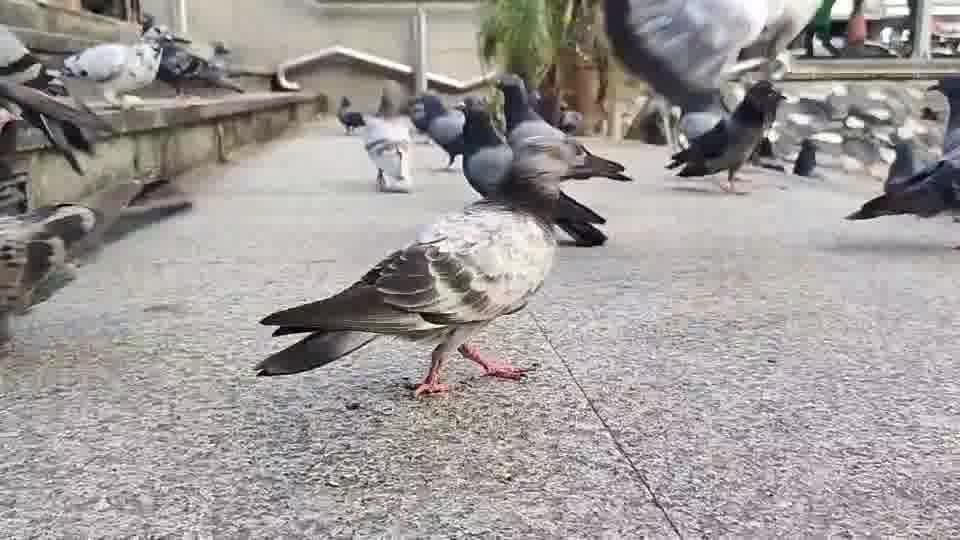Pigeon: (252, 135, 587, 399), (452, 94, 608, 246), (663, 78, 787, 193), (0, 201, 96, 344), (842, 132, 959, 223), (335, 86, 414, 194), (406, 92, 466, 169), (335, 95, 366, 135)
